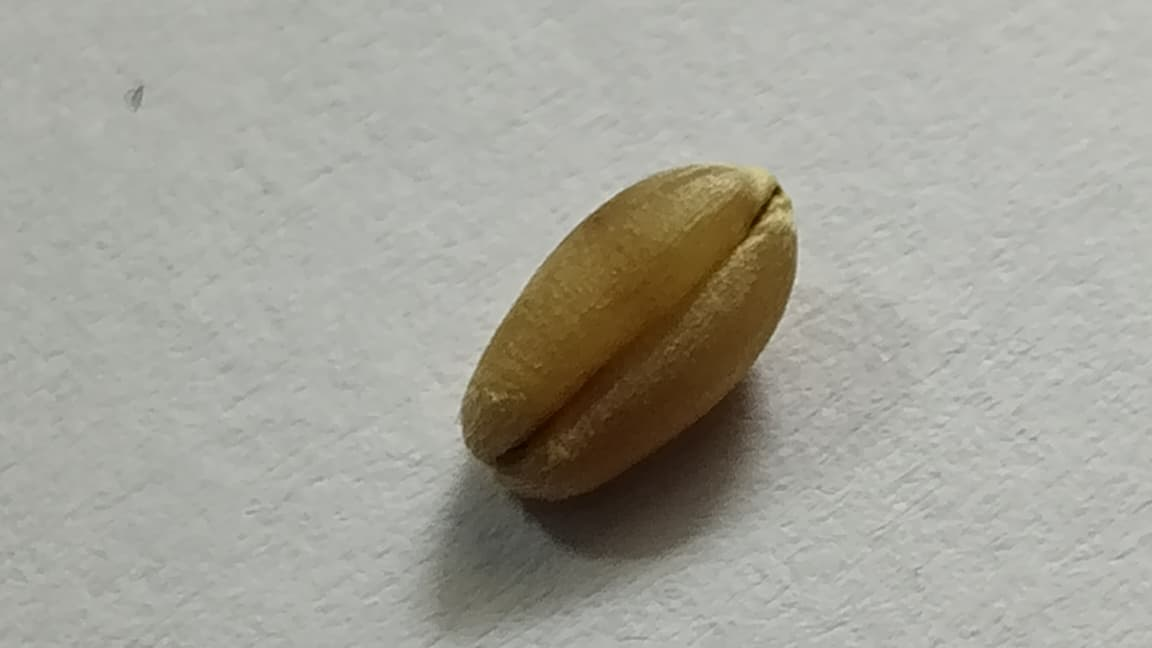healthy: (461, 163, 797, 498)
